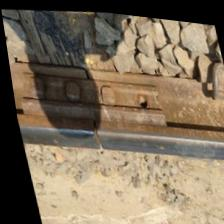person: (63, 107, 122, 161), (69, 57, 101, 88)
